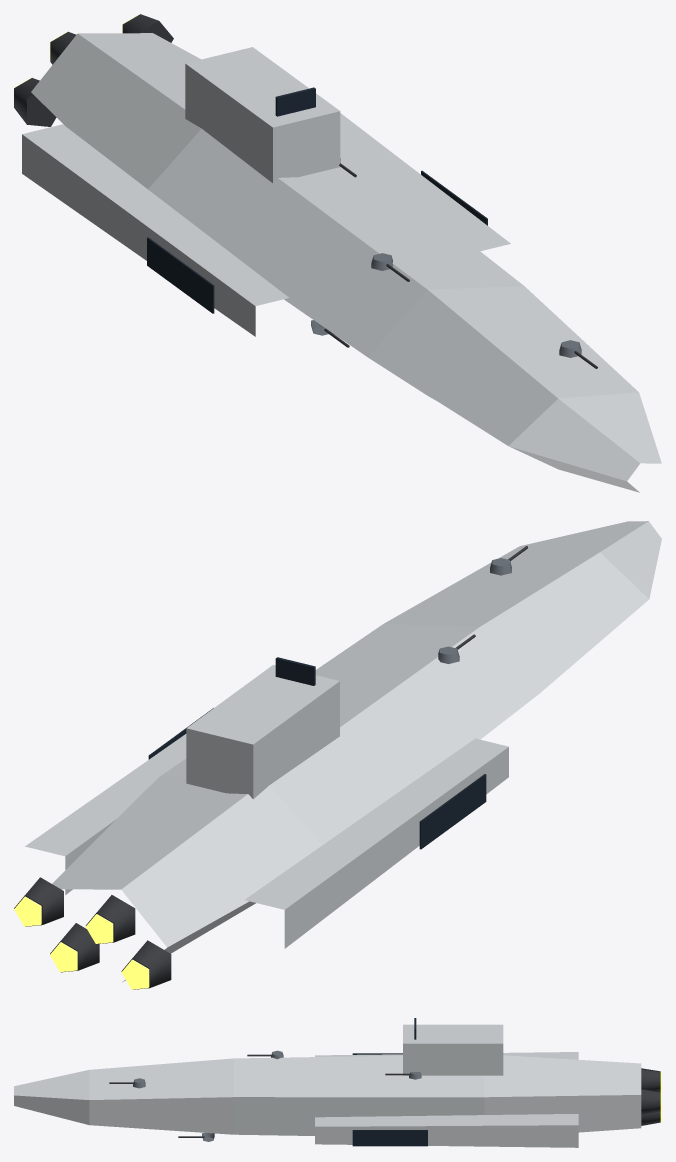
The model's file is space_ship_cruiser_mk1_lod1.glb.
3 views of the same model, one above another, from view 1: azimuth 30°, elevation 25°; view 2: azimuth 150°, elevation 25°; view 3: azimuth 270°, elevation 25° (orthographic). The views are drawn at different scales.
Visible parts, largest first — view 1: body, hangar_r, engine_0, engine_3; view 2: body, hangar_r, engine_0, engine_1, engine_3, engine_2; view 3: body, hangar_l, engine_3, engine_1, engine_2.
Part boxes in pixels (box(x1,y1,x2,y2)): body: box(22, 33, 661, 492); hangar_r: box(147, 237, 214, 313); engine_0: box(14, 78, 56, 126); engine_3: box(122, 14, 173, 42); body: box(25, 521, 661, 982); hangar_r: box(419, 774, 486, 849); engine_0: box(121, 940, 171, 989); engine_1: box(85, 895, 135, 944); engine_3: box(14, 877, 63, 926); engine_2: box(50, 923, 99, 972); body: box(14, 1018, 641, 1147); hangar_l: box(352, 1130, 427, 1146); engine_3: box(641, 1088, 661, 1114); engine_1: box(641, 1068, 661, 1091); engine_2: box(641, 1110, 661, 1125).
Size of the model in its own units: 18.56 by 12 by 66.12.
